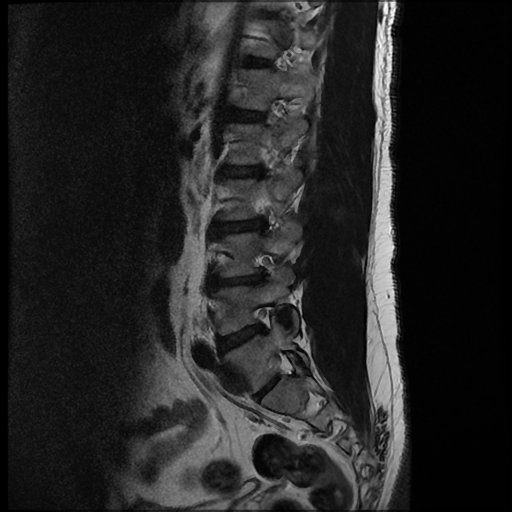LFS0: (239, 299, 285, 339)
LFS2: (244, 244, 281, 290)
